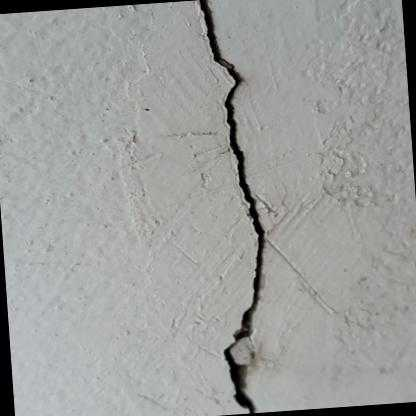crack: (198, 0, 264, 414)
